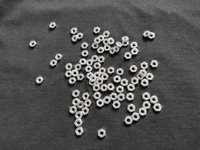nut: (150, 96, 159, 105), (98, 129, 106, 139), (153, 104, 163, 112), (75, 128, 84, 136), (132, 113, 140, 122), (139, 108, 147, 117), (143, 102, 152, 110), (75, 112, 83, 120), (125, 117, 133, 125), (143, 93, 151, 101), (128, 105, 136, 113), (113, 101, 121, 109), (77, 101, 85, 109), (84, 100, 92, 108), (72, 90, 80, 98), (103, 97, 111, 105), (110, 93, 118, 101), (127, 93, 135, 101), (128, 84, 136, 92), (141, 79, 149, 87), (121, 79, 129, 87), (141, 62, 149, 70), (73, 98, 80, 107), (75, 120, 83, 127), (82, 108, 89, 116), (97, 100, 104, 108), (83, 93, 90, 101), (94, 93, 102, 100), (118, 94, 125, 102), (36, 77, 44, 84), (107, 84, 115, 91), (117, 86, 124, 94), (132, 77, 139, 85), (137, 73, 145, 80), (77, 74, 85, 81), (108, 67, 115, 75), (50, 60, 58, 67), (55, 54, 63, 61), (151, 61, 159, 68), (130, 66, 138, 73), (65, 64, 73, 71), (85, 66, 93, 73), (70, 107, 77, 114), (69, 78, 76, 85), (93, 85, 100, 92), (101, 85, 108, 92), (140, 70, 147, 77), (89, 79, 96, 86), (97, 78, 104, 85), (114, 76, 121, 83), (102, 74, 109, 81), (90, 76, 97, 83), (87, 73, 94, 80), (94, 72, 101, 79), (99, 68, 106, 75), (117, 69, 124, 76), (65, 71, 72, 78), (72, 70, 79, 77), (75, 64, 82, 71), (80, 59, 87, 66), (98, 56, 105, 63), (72, 35, 79, 42), (125, 52, 132, 59), (131, 42, 138, 49), (144, 31, 151, 38), (98, 47, 105, 54), (113, 46, 120, 53), (94, 27, 101, 34), (108, 38, 115, 45), (103, 31, 110, 38), (146, 74, 154, 80), (91, 56, 99, 62), (81, 43, 89, 49), (131, 49, 139, 55), (94, 38, 102, 44), (30, 41, 37, 47), (94, 63, 101, 69), (86, 60, 93, 66), (82, 51, 89, 57), (71, 28, 78, 34), (149, 33, 156, 39), (92, 43, 99, 49), (110, 48, 117, 54), (104, 45, 111, 51), (116, 42, 123, 48), (122, 41, 129, 47), (98, 36, 105, 42), (77, 33, 83, 39), (103, 39, 109, 45), (122, 37, 129, 42), (50, 23, 56, 28)
